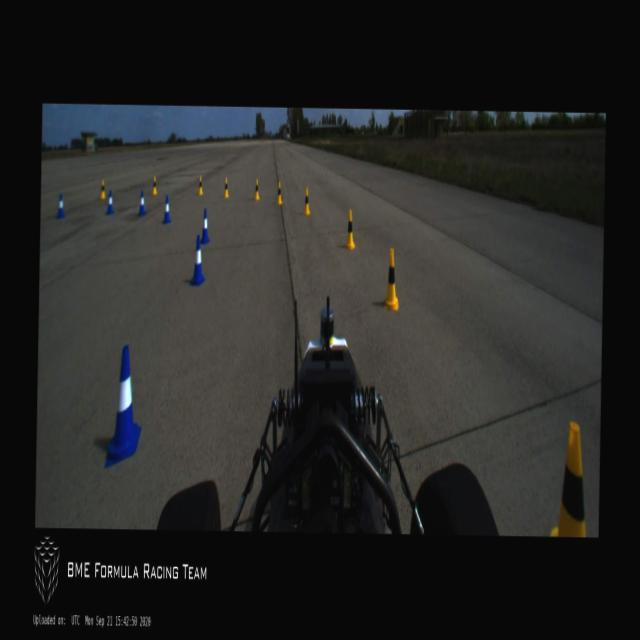blue_cone: (106, 344, 142, 464), (190, 234, 206, 287), (198, 207, 210, 244), (162, 194, 171, 223), (105, 190, 114, 215), (137, 190, 145, 215), (56, 194, 64, 219)
yellow_cone: (548, 422, 588, 536), (384, 247, 398, 310), (344, 210, 356, 250), (302, 187, 310, 215), (275, 181, 282, 206), (150, 176, 158, 196), (253, 179, 260, 201), (98, 180, 105, 198), (223, 177, 229, 197), (198, 176, 202, 195)
